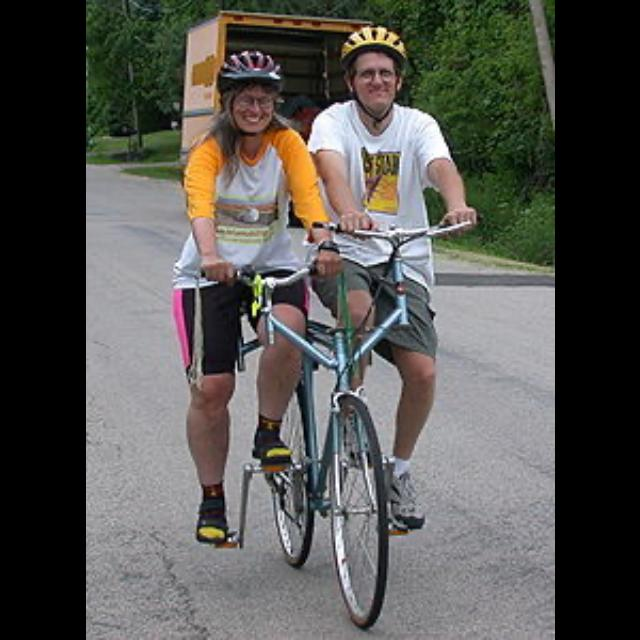With Helmet: (334, 26, 408, 112), (215, 49, 281, 132)
